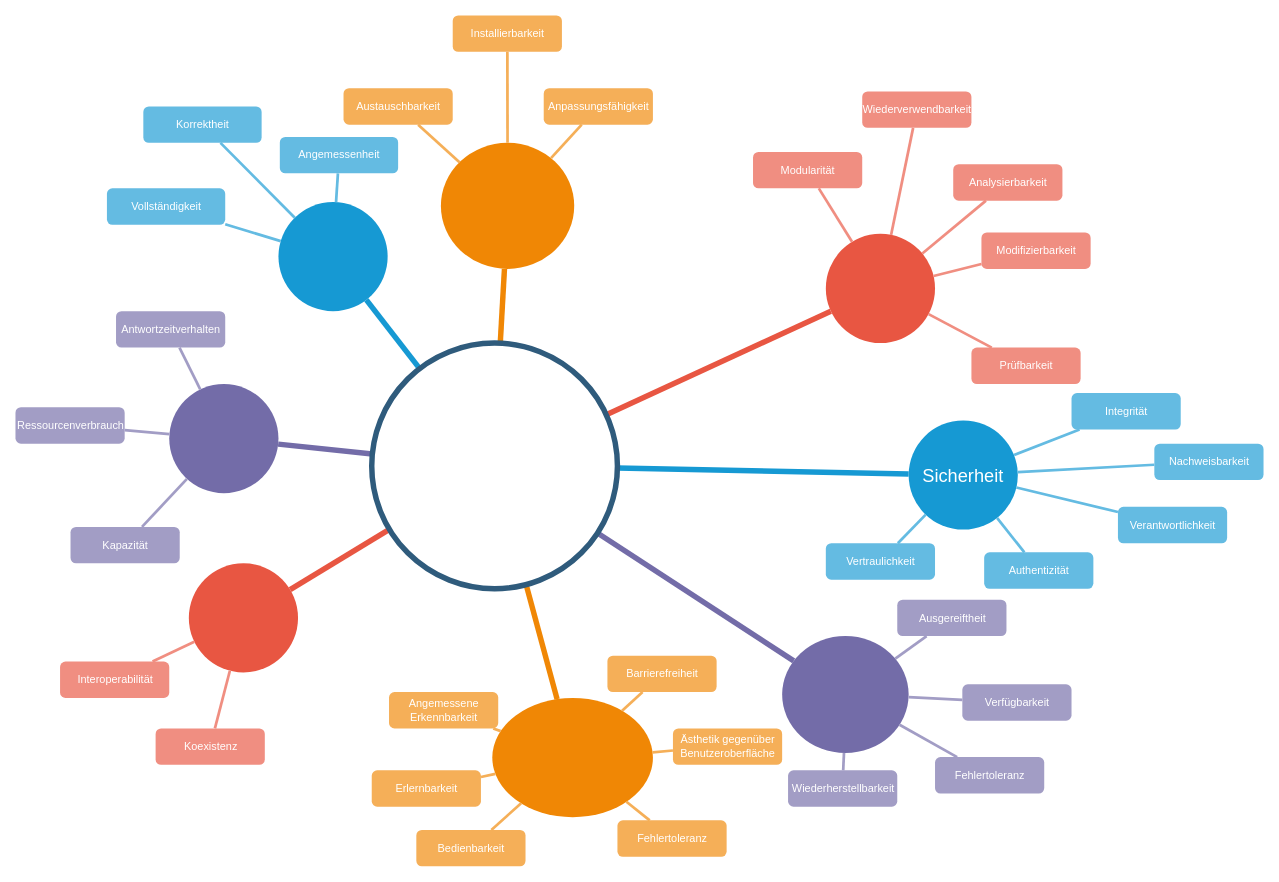
This 1279x882 diagram has some shape labels left out. The centre of each missing label's shape, as x and y in pixels:
Benutzbarkeit: the point at 572,757
Effizienz: the point at 223,438
Funktionalität: the point at 332,256
Kompabilität: the point at 243,617
LIVING BEINGS: the point at 494,465
Wartbarkeit: the point at 880,288
Zuverlässigkeit: the point at 845,694
Übertragbarkeit: the point at 507,205
